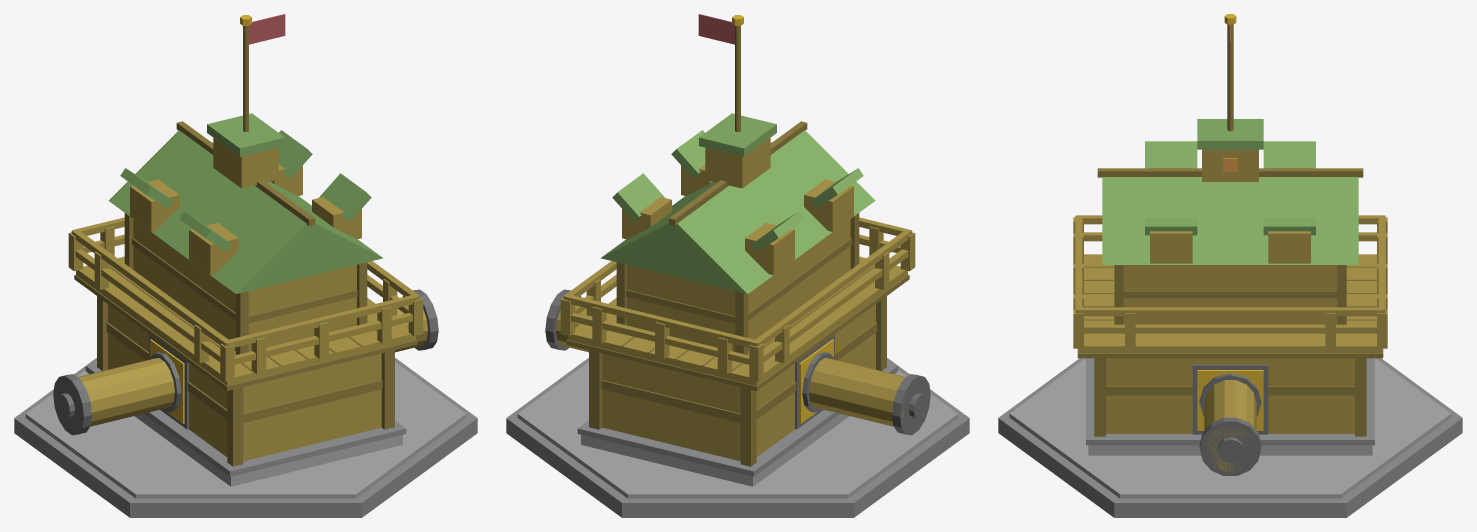
File: storage_s2_50.glb
3 views of the same model, side by side, from view 1: azimuth 30°, elevation 25°; view 2: azimuth 150°, elevation 25°; view 3: azimuth 270°, elevation 25° (orthographic).
Visible parts, largest first — view 1: S_FoundRim, S_Roof, S_GF_Walls, S_Foundation, S_UF_Walls, S_Walkway, S_PipeStubW, S_PlinthCap, S_Plinth, S_GF_Band, S_Erker, S_ErkerRoof (+29 smaller); view 2: S_FoundRim, S_Roof, S_GF_Walls, S_Foundation, S_UF_Walls, S_Walkway, S_PipeStubW, S_PlinthCap, S_Plinth, S_GF_Band, S_Erker, S_ErkerRoof (+29 smaller); view 3: S_FoundRim, S_Roof, S_GF_Walls, S_Foundation, S_UF_Walls, S_Walkway, S_PlinthCap, S_Rail_E_0.75, S_Rail_E_0.67, S_PipeStubE, S_Plinth, S_FlangeE_disc (+21 smaller).
Part boxes in pixels (x1=…): S_FoundRim: x1=25, y1=362, x2=466, y2=498; S_Roof: x1=108, y1=130, x2=382, y2=293; S_GF_Walls: x1=108, y1=304, x2=381, y2=461; S_Foundation: x1=14, y1=358, x2=477, y2=517; S_UF_Walls: x1=133, y1=219, x2=356, y2=351; S_Walkway: x1=76, y1=256, x2=415, y2=385; S_PipeStubW: x1=78, y1=358, x2=174, y2=426; S_PlinthCap: x1=85, y1=363, x2=406, y2=476; S_Plinth: x1=89, y1=374, x2=402, y2=486; S_GF_Band: x1=106, y1=322, x2=382, y2=422; S_Erker: x1=213, y1=138, x2=278, y2=188; S_ErkerRoof: x1=207, y1=113, x2=284, y2=156; S_FoundRim: x1=517, y1=362, x2=958, y2=498; S_Roof: x1=601, y1=130, x2=875, y2=293; S_GF_Walls: x1=602, y1=304, x2=875, y2=461; S_Foundation: x1=506, y1=358, x2=969, y2=517; S_UF_Walls: x1=627, y1=219, x2=850, y2=351; S_Walkway: x1=568, y1=256, x2=907, y2=385; S_PipeStubW: x1=809, y1=358, x2=907, y2=426; S_PlinthCap: x1=577, y1=363, x2=898, y2=476; S_Plinth: x1=581, y1=374, x2=894, y2=486; S_GF_Band: x1=601, y1=322, x2=877, y2=422; S_Erker: x1=705, y1=138, x2=770, y2=188; S_ErkerRoof: x1=699, y1=113, x2=776, y2=156; S_FoundRim: x1=1009, y1=358, x2=1451, y2=498; S_Roof: x1=1102, y1=177, x2=1358, y2=264; S_GF_Walls: x1=1106, y1=358, x2=1354, y2=433; S_Foundation: x1=998, y1=358, x2=1462, y2=517; S_UF_Walls: x1=1123, y1=265, x2=1337, y2=324; S_Walkway: x1=1078, y1=254, x2=1382, y2=353; S_PlinthCap: x1=1086, y1=358, x2=1374, y2=445; S_Rail_E_0.75: x1=1076, y1=307, x2=1384, y2=316; S_Rail_E_0.67: x1=1084, y1=324, x2=1376, y2=333; S_PipeStubE: x1=1204, y1=380, x2=1256, y2=471; S_Plinth: x1=1088, y1=445, x2=1372, y2=455; S_FlangeE_disc: x1=1199, y1=417, x2=1261, y2=475.
Bounding box in the file's own units: 1.78 × 1.94 × 1.96.
